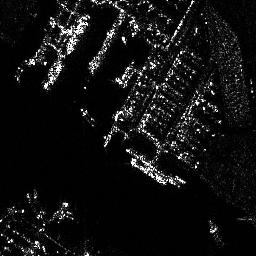ship: (128, 156, 167, 184), (66, 12, 89, 54)
